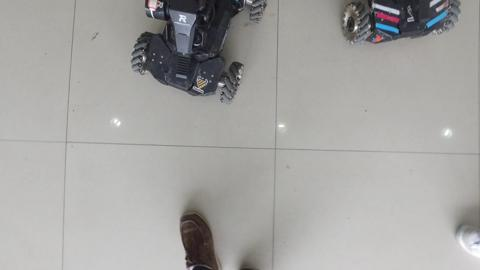chariot: (118, 1, 272, 115), (340, 1, 464, 60)
